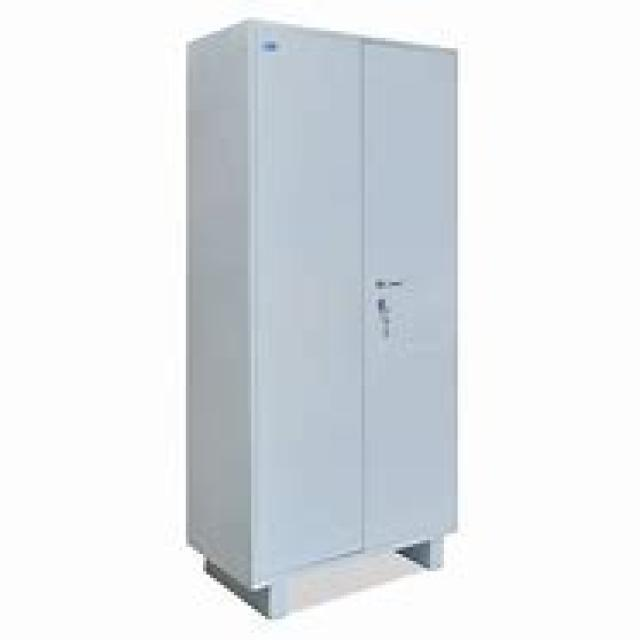dolap: (182, 14, 458, 616)
